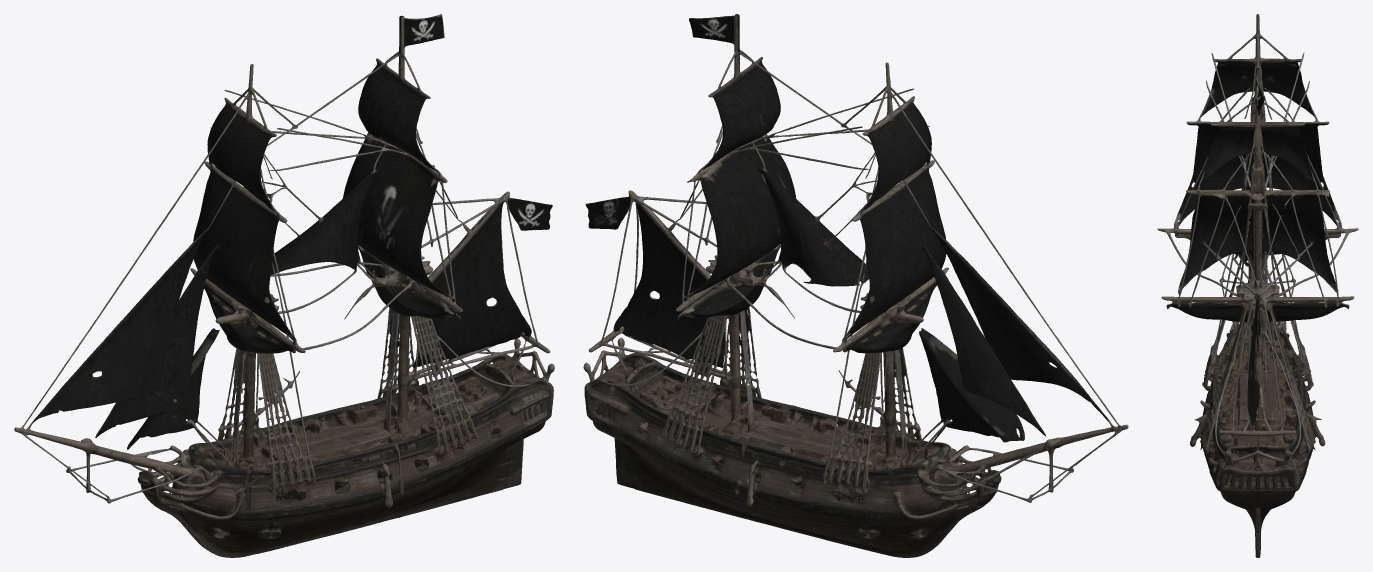
Rendered from Raider Brig.glb.
3 views of the same model, side by side, from view 1: azimuth 30°, elevation 25°; view 2: azimuth 150°, elevation 25°; view 3: azimuth 270°, elevation 25° (orthographic). The views are drawn at different scales.
Bounding box in the file's own units: 1.9 × 1.69 × 0.6944.
Materials: 1 (1 with a texture image).
